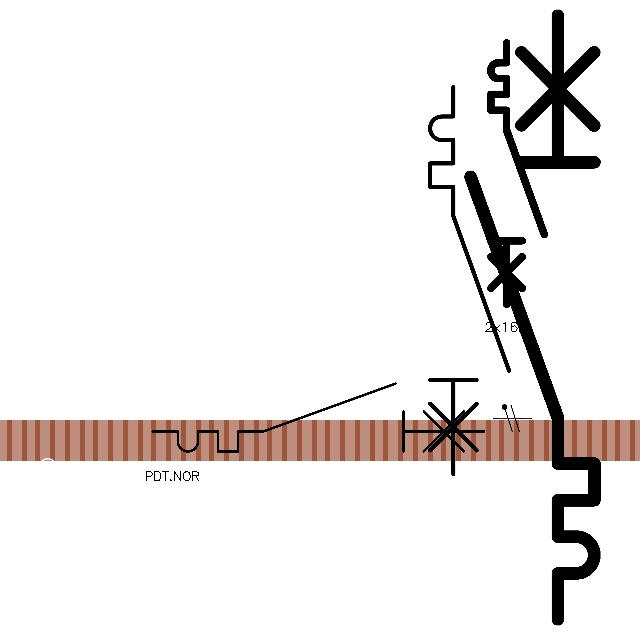interruptor_termomagnetico: (455, 0, 610, 635), (420, 77, 519, 483), (144, 375, 493, 460), (484, 36, 551, 311)
